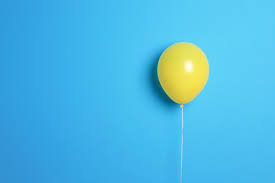Balloon: (156, 42, 209, 104)
